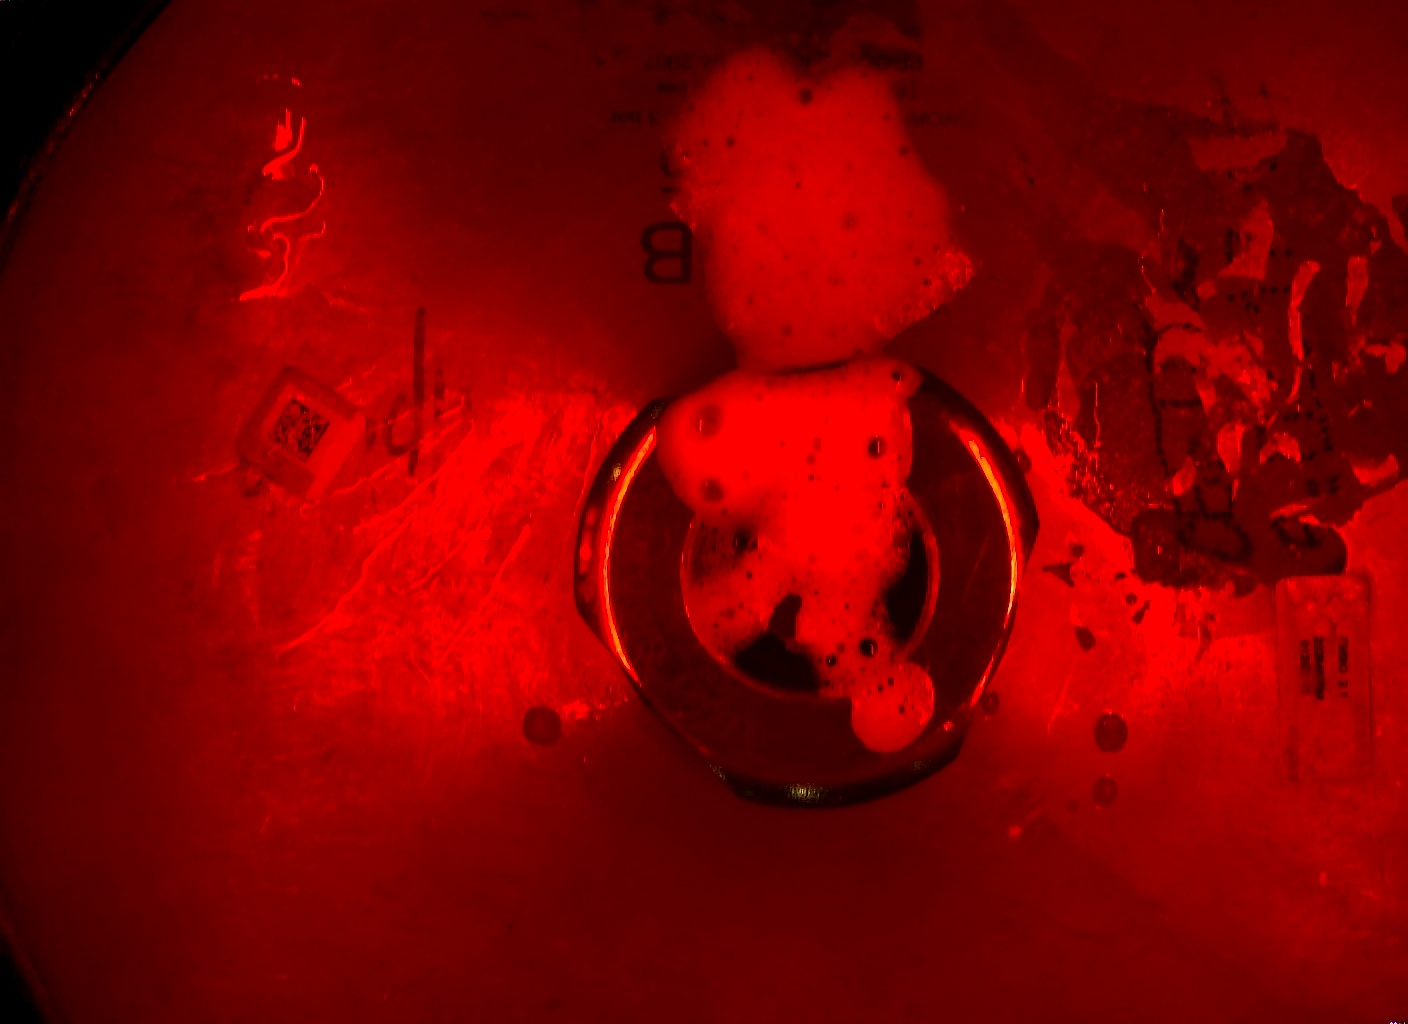pena: (654, 38, 964, 769)
